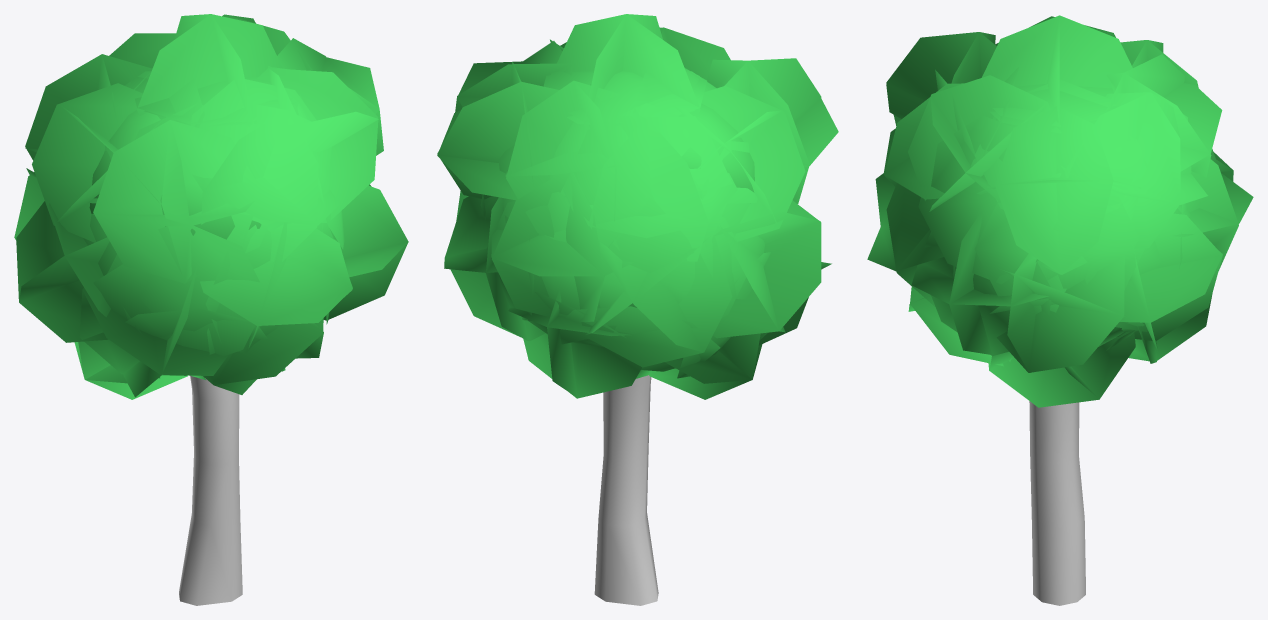
File: Oak_A.fbx
The picture shows the model from 3 angles, left to right: view 1: azimuth 30°, elevation 25°; view 2: azimuth 150°, elevation 25°; view 3: azimuth 270°, elevation 25°; orthographic projection.
Visible parts, largest first — view 1: Oak_A_LOD0; view 2: Oak_A_LOD0; view 3: Oak_A_LOD0.
Part boxes in pixels (box(x1,y1,x2,y2)): Oak_A_LOD0: box(14, 14, 408, 605); Oak_A_LOD0: box(437, 14, 838, 605); Oak_A_LOD0: box(867, 15, 1253, 605).
Size of what is drawn, in the model's own units: 6.37 by 10.07 by 6.12.
